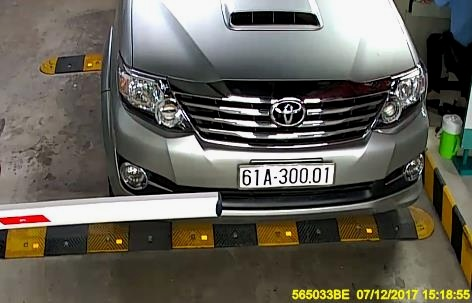plate: (236, 155, 335, 191)
